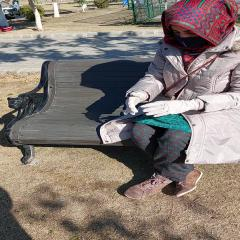gloved: (141, 100, 193, 116), (124, 92, 141, 115)
